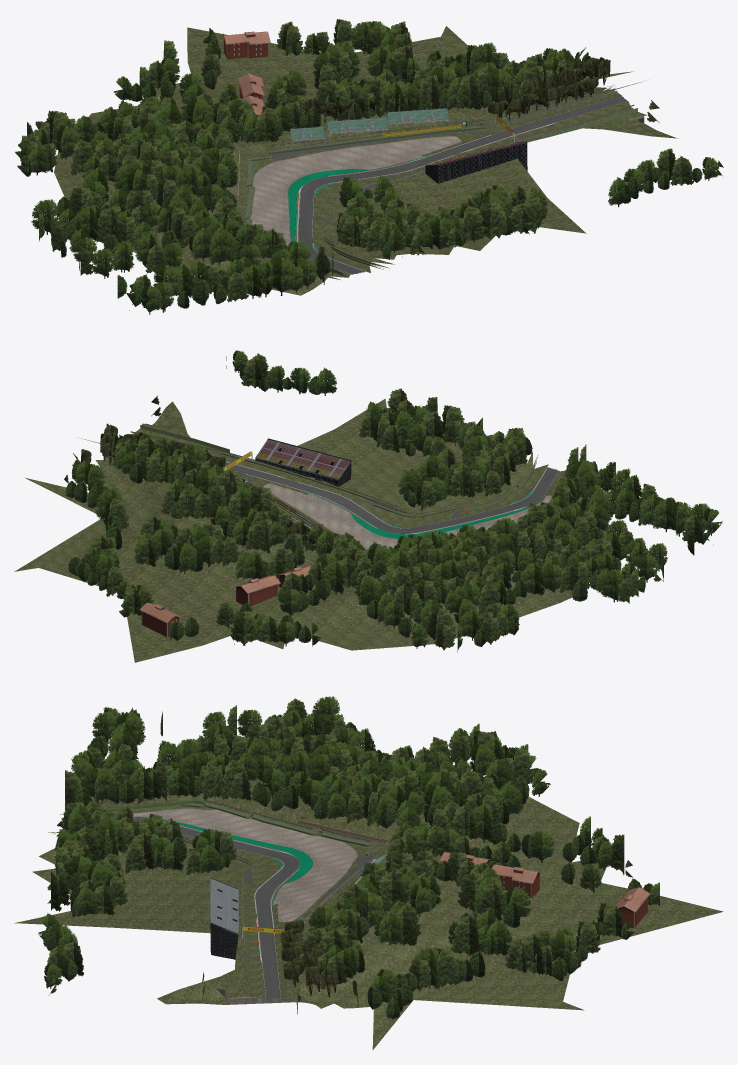
3 renders of one model, top to bottom at view 1: azimuth 30°, elevation 25°; view 2: azimuth 150°, elevation 25°; view 3: azimuth 270°, elevation 25°, orthographic. The views are drawn at different scales.
Visible parts, largest first — view 1: tile_t08; view 2: tile_t08; view 3: tile_t08.
Boxes of the visible parts, box(x1,y1,x2,y2) form: tile_t08: box(15, 19, 723, 314); tile_t08: box(14, 350, 722, 662); tile_t08: box(14, 696, 723, 1049).
Bounding box in the file's own units: 502 × 50.92 × 467.
Materials: 37 (37 with a texture image).
